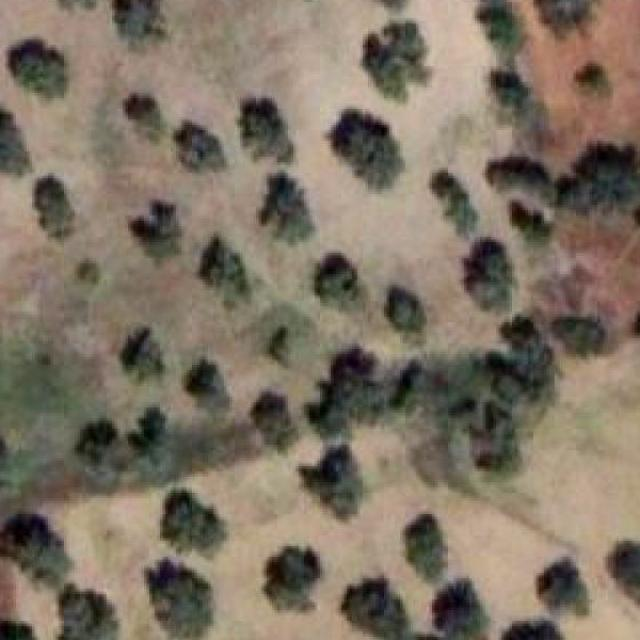Tree: (552, 138, 640, 219), (0, 511, 79, 600), (328, 109, 409, 192), (485, 322, 561, 408), (147, 557, 217, 636), (302, 442, 368, 522), (357, 23, 429, 96), (158, 487, 226, 560), (261, 544, 321, 625), (329, 340, 385, 415), (342, 573, 404, 640), (5, 34, 68, 94), (60, 581, 121, 640), (464, 409, 521, 472), (469, 0, 532, 57), (483, 154, 556, 202), (126, 202, 180, 264), (244, 96, 294, 161), (67, 418, 120, 479), (34, 176, 82, 243), (424, 583, 484, 636), (200, 239, 250, 302), (126, 402, 173, 468), (112, 0, 174, 49), (536, 562, 591, 616), (256, 181, 309, 237), (312, 261, 363, 318), (403, 511, 449, 573), (184, 359, 234, 415), (248, 397, 298, 452), (435, 176, 480, 236), (174, 119, 222, 175), (0, 93, 31, 177), (116, 328, 166, 378), (504, 197, 556, 245), (304, 389, 351, 442), (467, 248, 510, 305), (558, 312, 613, 356), (121, 85, 164, 140), (608, 539, 640, 608), (486, 66, 534, 111), (261, 322, 302, 371), (534, 0, 600, 30), (382, 290, 424, 336), (576, 56, 612, 97), (504, 617, 561, 640), (0, 610, 39, 640), (74, 256, 106, 284), (48, 0, 100, 17), (629, 306, 640, 347), (0, 434, 9, 471), (0, 480, 11, 503)
